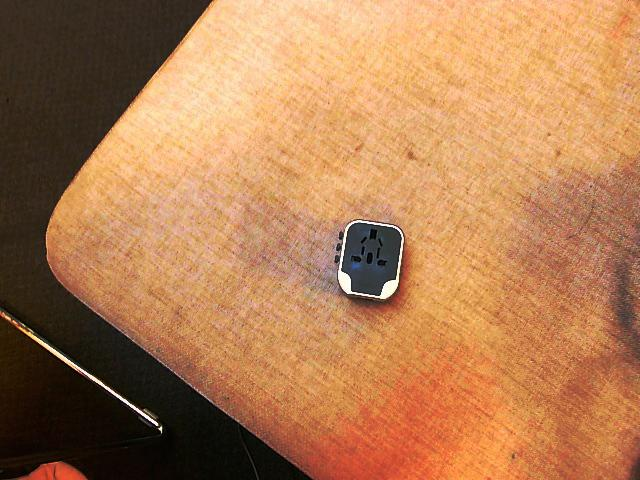adapter: (332, 218, 403, 302)
